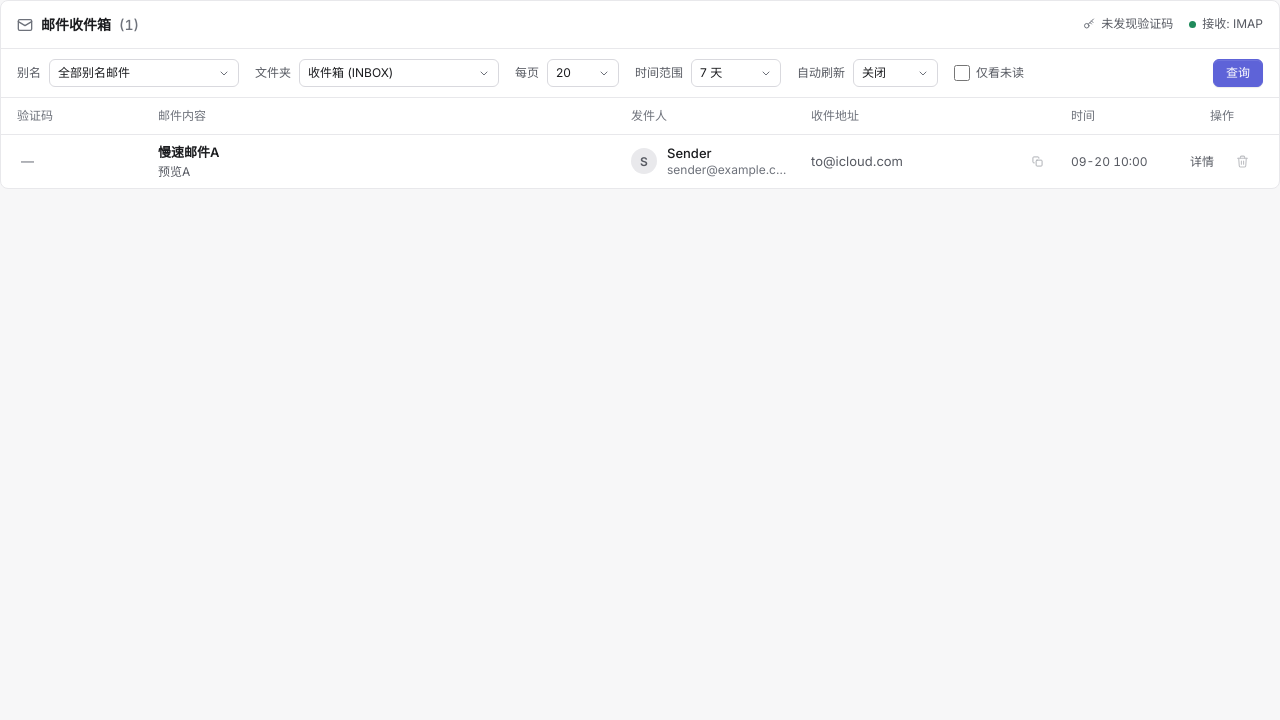
InboxTableView 详情生命周期彻底收口 (FIX-1) › Case A: A detail pending → close dialog → request abort, loading=false, dialog disappears, late response 不得重新打开
Note: 点击邮件触发 loading
Click the button "慢速邮件A": (189, 152) [158,142,220,161]
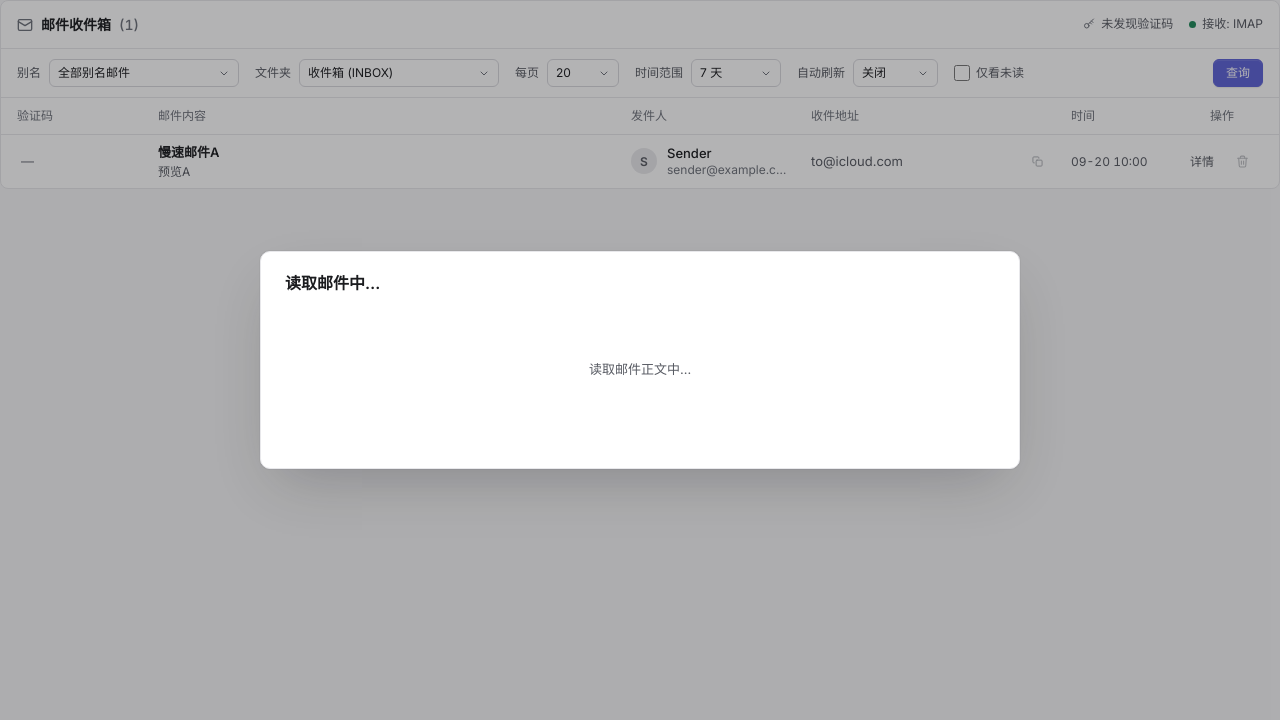
Result: the text "读取邮件正文中…" is shown at [589,361,691,377]
Result: the element with class "dialog-backdrop" is shown
Click the element with class "dialog-backdrop": (77, 360) [0,0,1279,719]
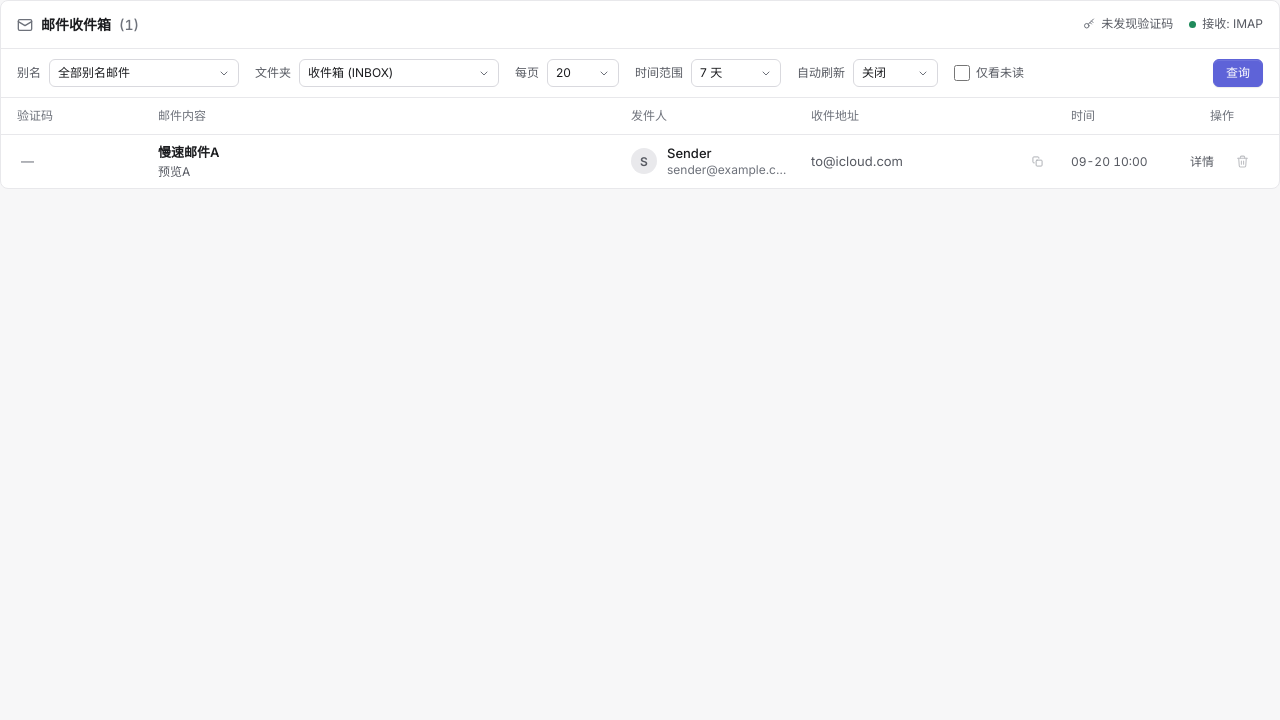
Result: the dialog is gone
